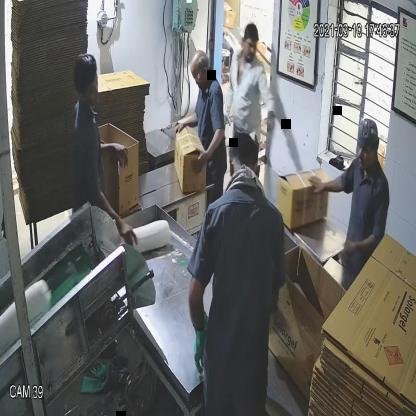no_glove: (88, 180, 144, 258), (336, 218, 378, 266), (196, 125, 230, 178), (308, 162, 349, 202), (94, 132, 130, 176), (174, 104, 204, 146)
